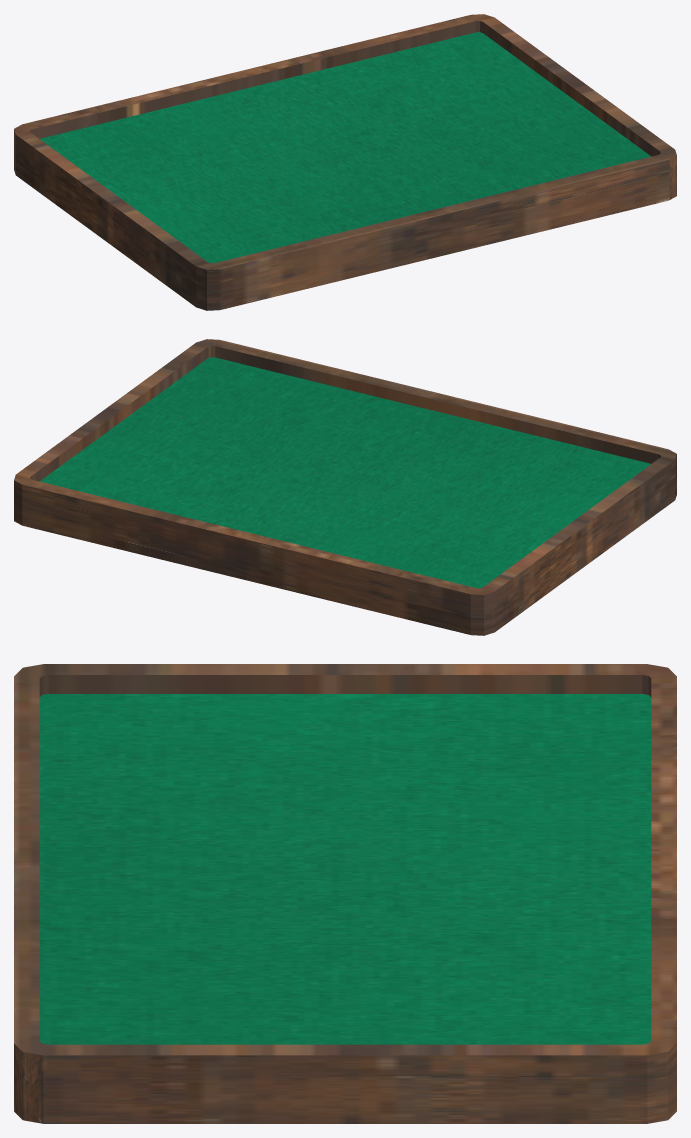
The model's file is unit action frame.fbx.
The picture shows the model from 3 angles, top to bottom: view 1: azimuth 30°, elevation 25°; view 2: azimuth 150°, elevation 25°; view 3: azimuth 270°, elevation 25°; orthographic projection. The views are drawn at different scales.
Parts seen in each view (by area): view 1: Cube.002; view 2: Cube.002; view 3: Cube.002.
Boxes of the visible parts, <box> form: Cube.002: <box>14,14,676,310</box>; Cube.002: <box>14,339,676,635</box>; Cube.002: <box>14,664,676,1123</box>.
Bounding box in the file's own units: 530 × 43.18 × 379.
Materials: 2 (2 with a texture image).
